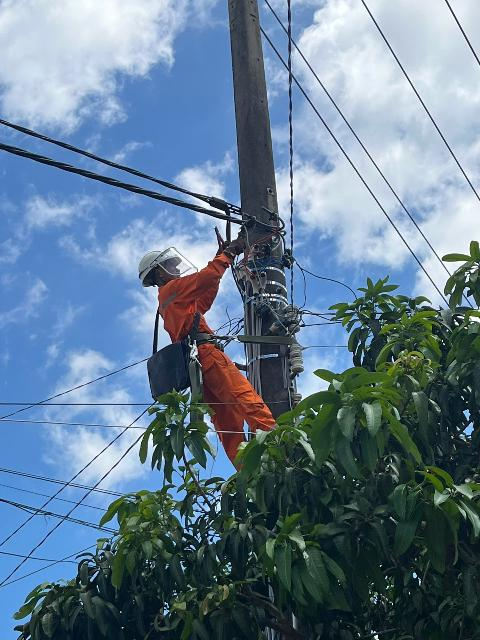gloves: (199, 225, 275, 261)
harness: (166, 309, 249, 358)
helmet: (131, 240, 188, 290)
